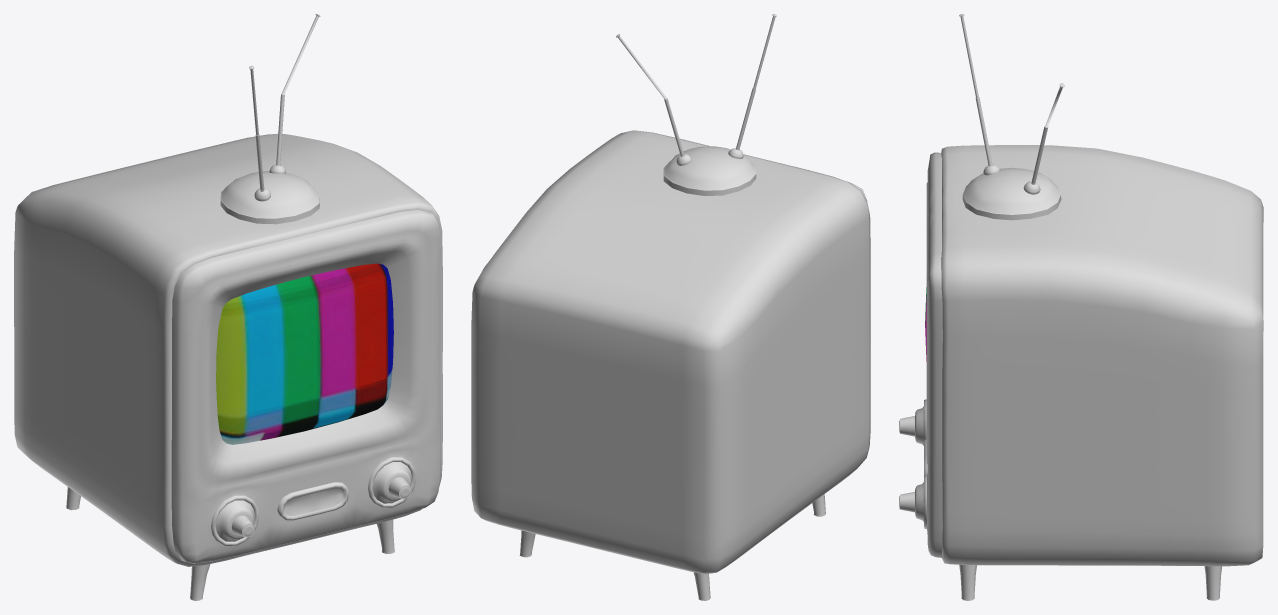
3 renders of one model, left to right at view 1: azimuth 30°, elevation 25°; view 2: azimuth 150°, elevation 25°; view 3: azimuth 270°, elevation 25°, orthographic. The views are drawn at different scales.
Visible parts, largest first — view 1: tv_LP, Screen; view 2: tv_LP; view 3: tv_LP.
Boxes of the visible parts, x1,y1,x2,y2 form: tv_LP: (14, 14, 442, 600); Screen: (216, 263, 393, 444); tv_LP: (471, 14, 870, 600); tv_LP: (899, 14, 1263, 600).
Bounding box in the file's own units: 1.9 × 3.39 × 2.17.
Materials: 2 (1 with a texture image).
